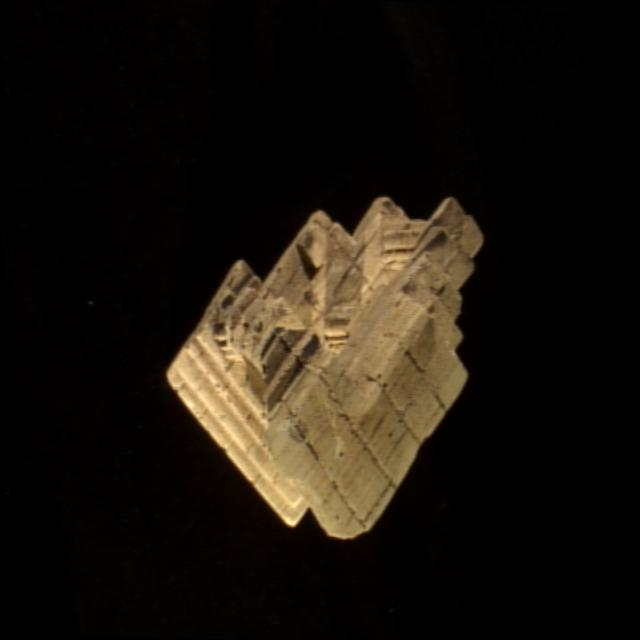Instance-Segmentation: (166, 200, 481, 538)
